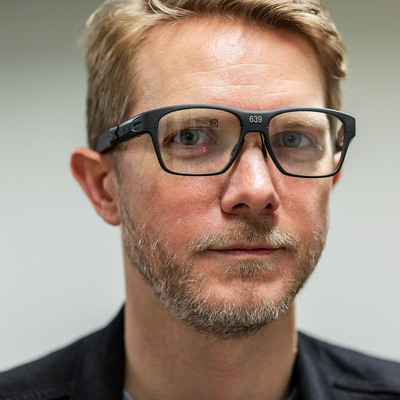eywear: (79, 86, 368, 188)
